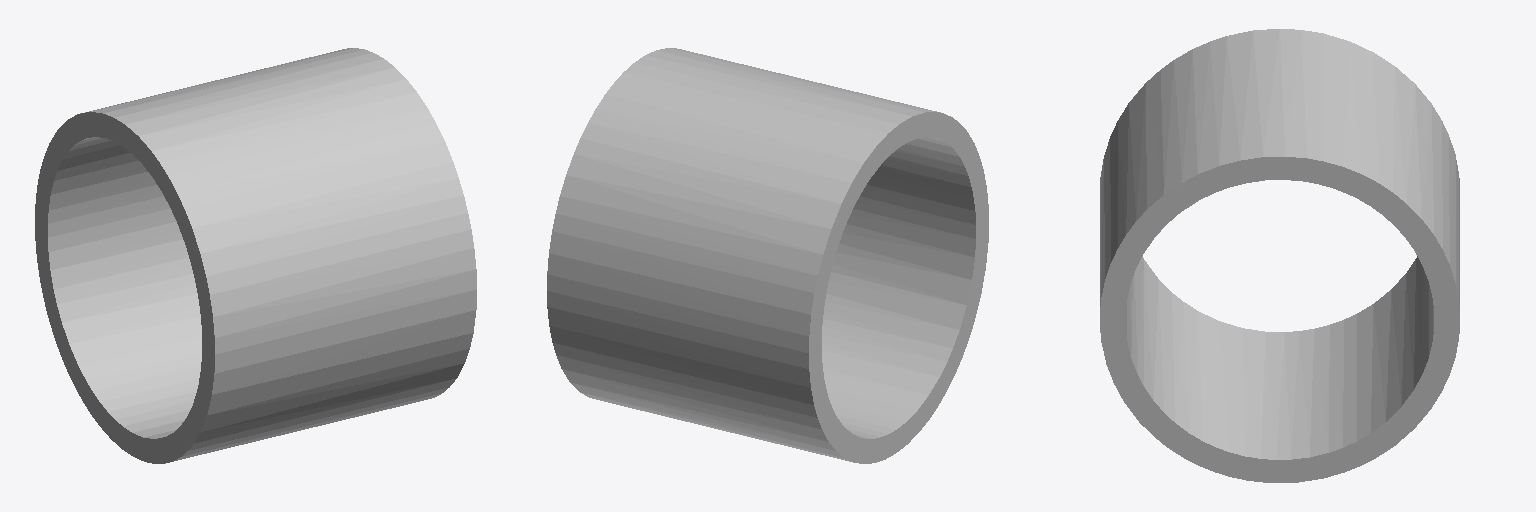
File: remote bushing.obj
3 views of the same model, side by side, from view 1: azimuth 30°, elevation 25°; view 2: azimuth 150°, elevation 25°; view 3: azimuth 270°, elevation 25° (orthographic).
Parts seen in each view (by area): view 1: imagetostl_mesh0; view 2: imagetostl_mesh0; view 3: imagetostl_mesh0.
Boxes of the visible parts, x1=… form: imagetostl_mesh0: x1=35, y1=48, x2=476, y2=463; imagetostl_mesh0: x1=547, y1=48, x2=988, y2=463; imagetostl_mesh0: x1=1100, y1=29, x2=1459, y2=482.
Size of the model in its own units: 118 by 140 by 140.